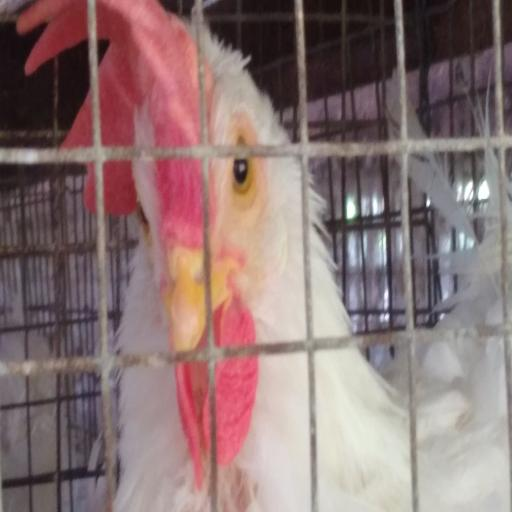healthy: (108, 5, 293, 414)
